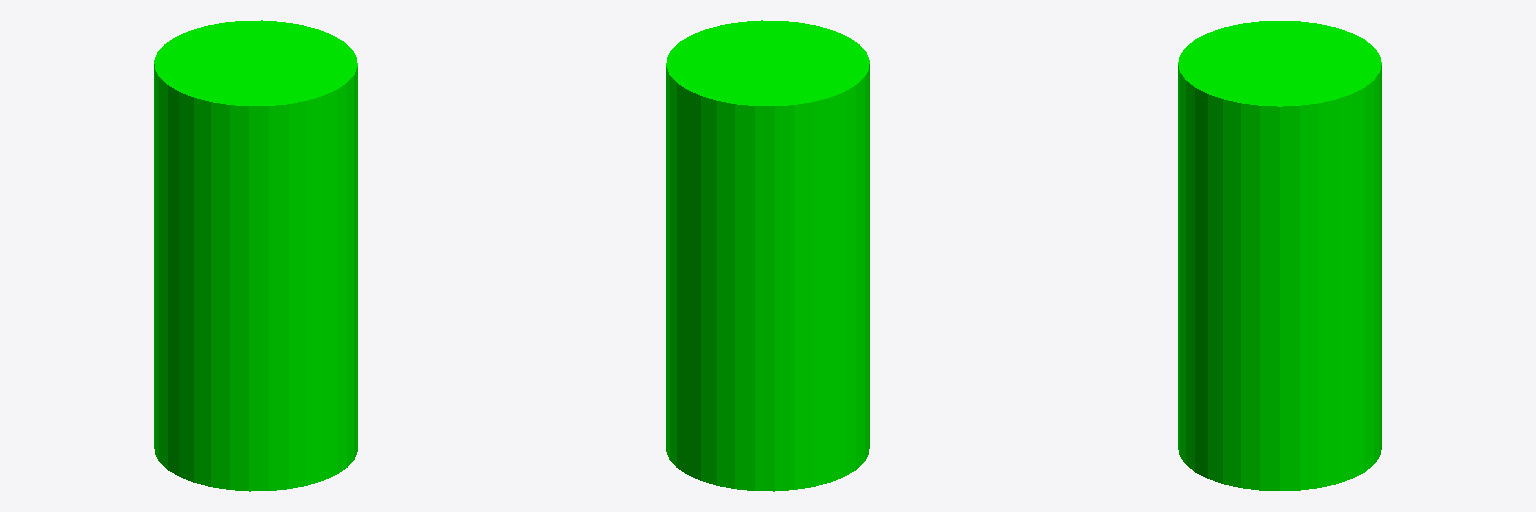
The robot description file, URDF, robot "cylinder":
<?xml version="0.0" ?>
<robot name="cylinder">
    <material name="green">
        <color rgba="0 1 0 0.5"/>
    </material>

    <link name="baseLink">
        <inertial>
            <origin rpy="0 0 0" xyz="0 0 0"/>
            <mass value="0.0"/>
            <inertia ixx="1" ixy="0" ixz="0" iyy="1" iyz="0" izz="1"/>
        </inertial>
        <visual>
            <origin rpy="0 0 0" xyz="0 0 0"/>
            <geometry>
                <cylinder length="0.05" radius="0.012"/>
            </geometry>
            <material name="green"/>
        </visual>
    </link>
</robot>

--- Facts derived from the render (not from the file) ---
Views: 3 orthographic renders of the robot side by side, from view 1: azimuth 30°, elevation 25°; view 2: azimuth 150°, elevation 25°; view 3: azimuth 270°, elevation 25°.
Model cylinder with 1 links and 0 joints (none), rooted at baseLink, posed all joints at 0.
Links seen in each view (by area): view 1: baseLink; view 2: baseLink; view 3: baseLink.
Boxes of the visible links, x1,y1,x2,y2 form: baseLink: (154, 20, 357, 491); baseLink: (666, 20, 869, 491); baseLink: (1178, 21, 1381, 490).
Size in the robot's own frame: 0.024 by 0.024 by 0.05 metres.
Geometry: primitives only (box / cylinder / sphere), no mesh files.